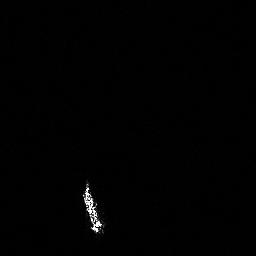ship: (76, 177, 109, 237)
